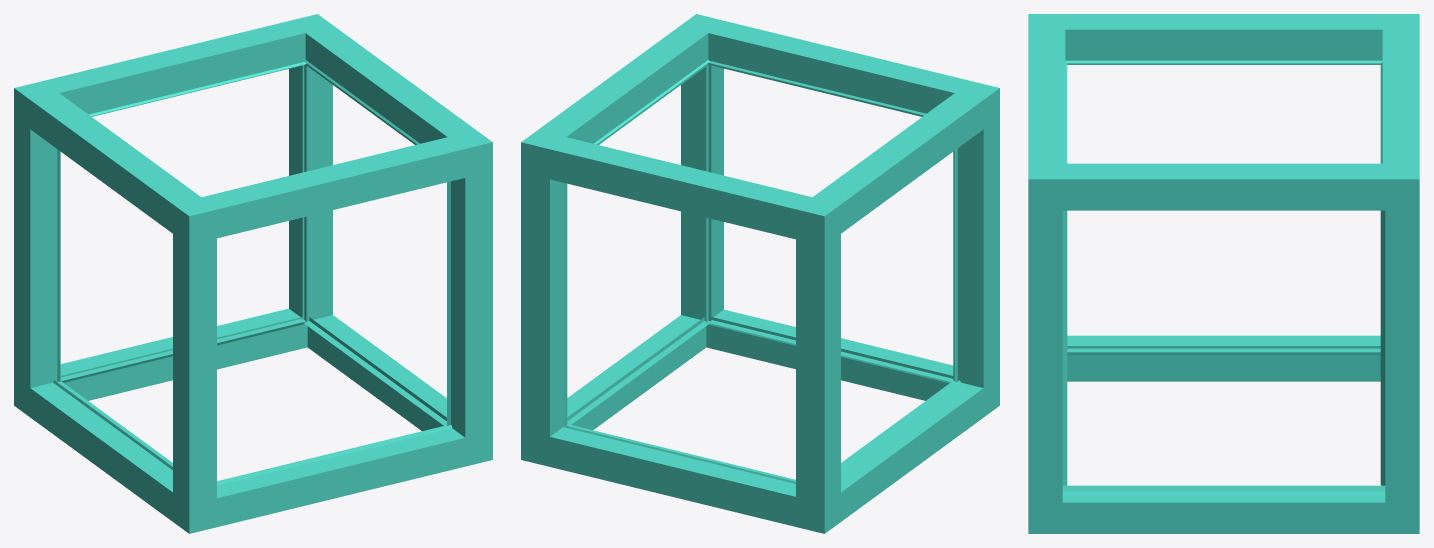
The model's file is boxbutnotabox.fbx.
3 views of the same model, side by side, from view 1: azimuth 30°, elevation 25°; view 2: azimuth 150°, elevation 25°; view 3: azimuth 270°, elevation 25° (orthographic). The views are drawn at different scales.
Visible parts, largest first — view 1: Cube; view 2: Cube; view 3: Cube.
Boxes of the visible parts, box(x1,y1,x2,y2) form: Cube: box(14, 14, 492, 533); Cube: box(521, 14, 999, 533); Cube: box(1028, 14, 1419, 533).
Bounding box in the file's own units: 800 × 800 × 800.
